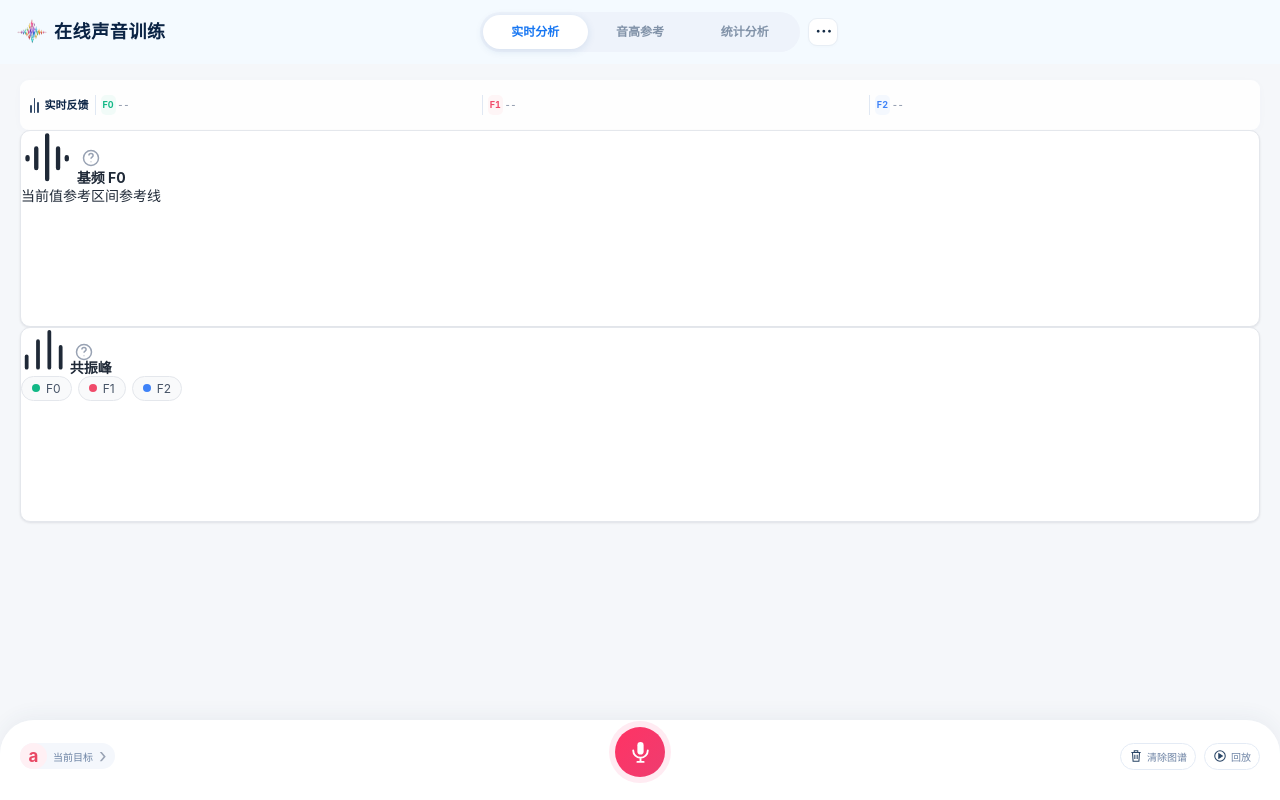
Test case: portrait analysis structure › opens target settings from the dock and closes them
Step 1. Click the button with test id "dock-goal" → [67, 756], box [20, 743, 115, 769]
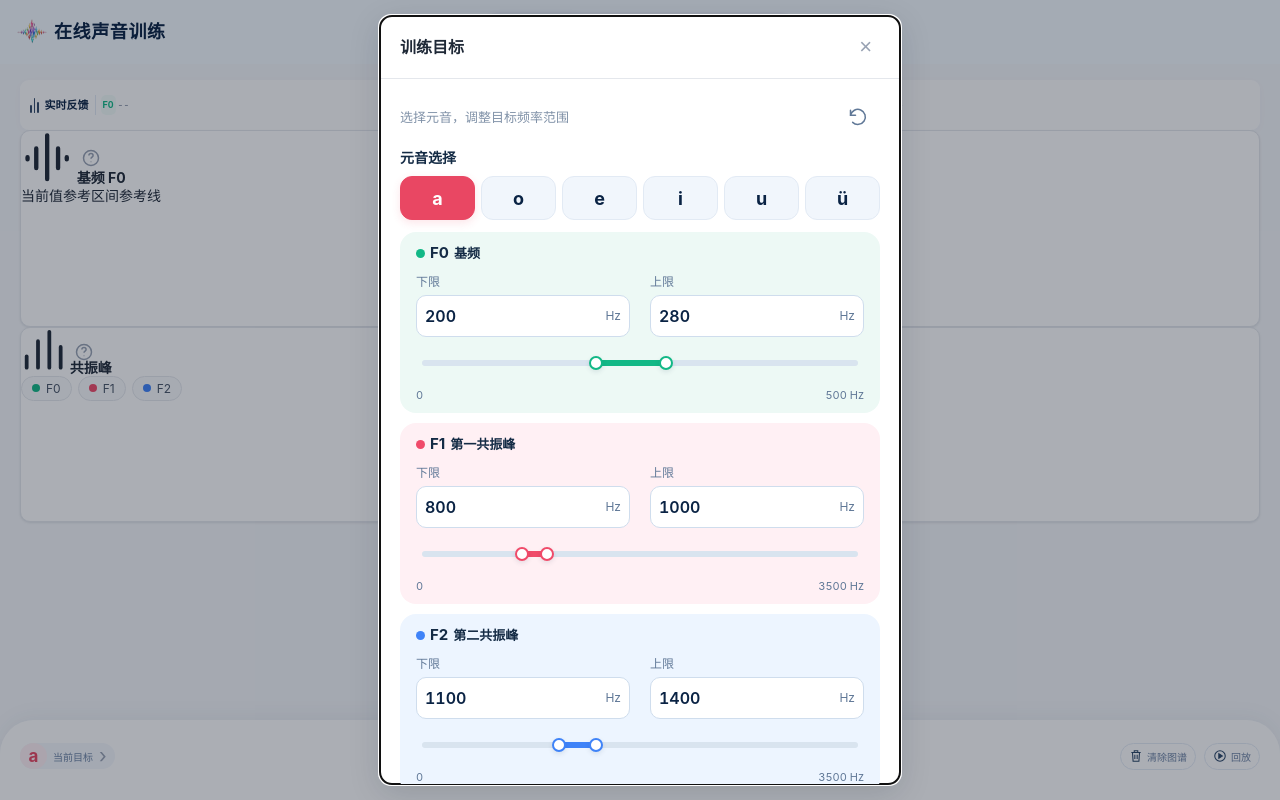
Result: the dialog "训练目标" is shown at [380, 16, 900, 784]
Step 2. Click the button named "关闭" → [866, 47], box [851, 32, 880, 62]
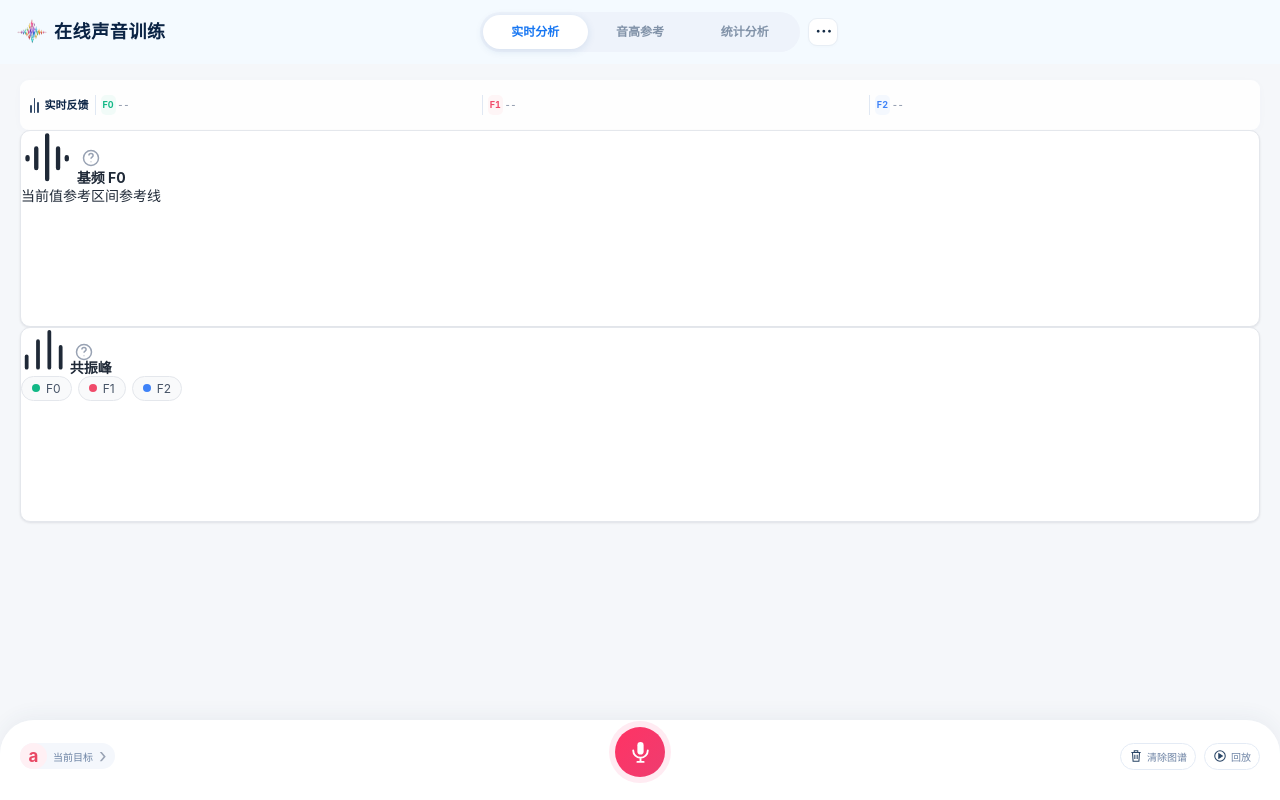
Result: the heading "训练目标" is gone
